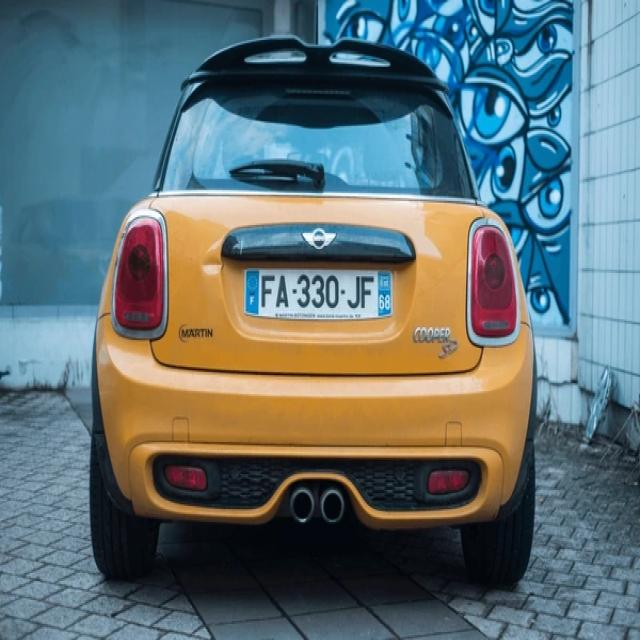mini: (297, 223, 338, 253)
